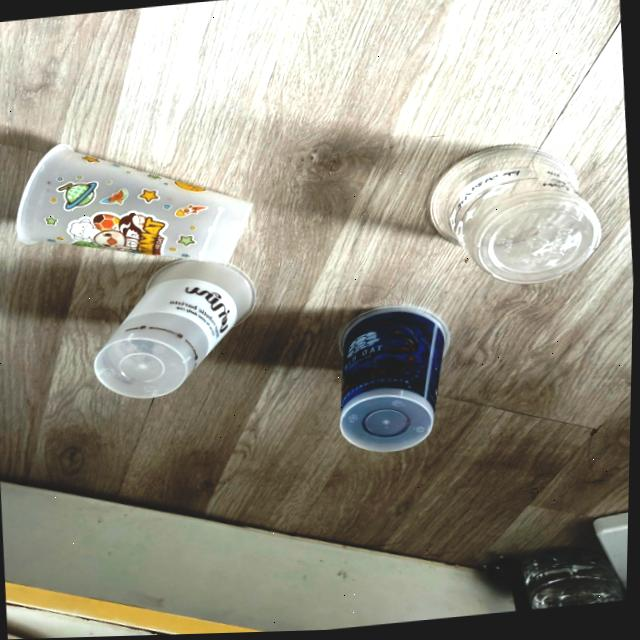Plastic Cup: (18, 145, 253, 263), (430, 148, 601, 286), (96, 260, 255, 398), (342, 308, 449, 454)
